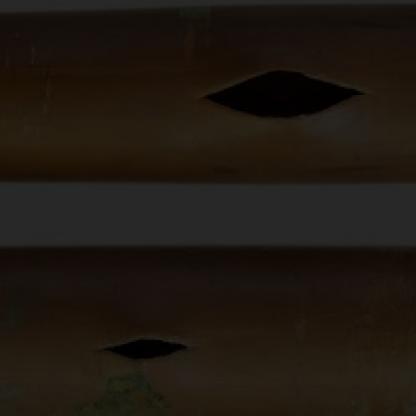burst: (208, 53, 381, 137), (99, 337, 206, 372)
